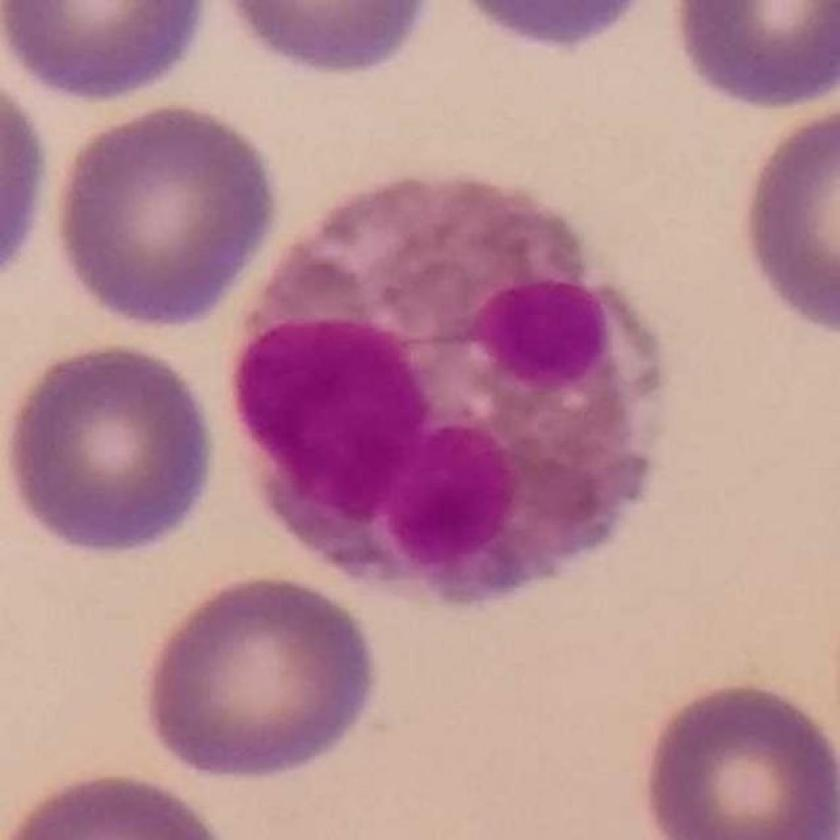eosinophil: (230, 164, 671, 618)
